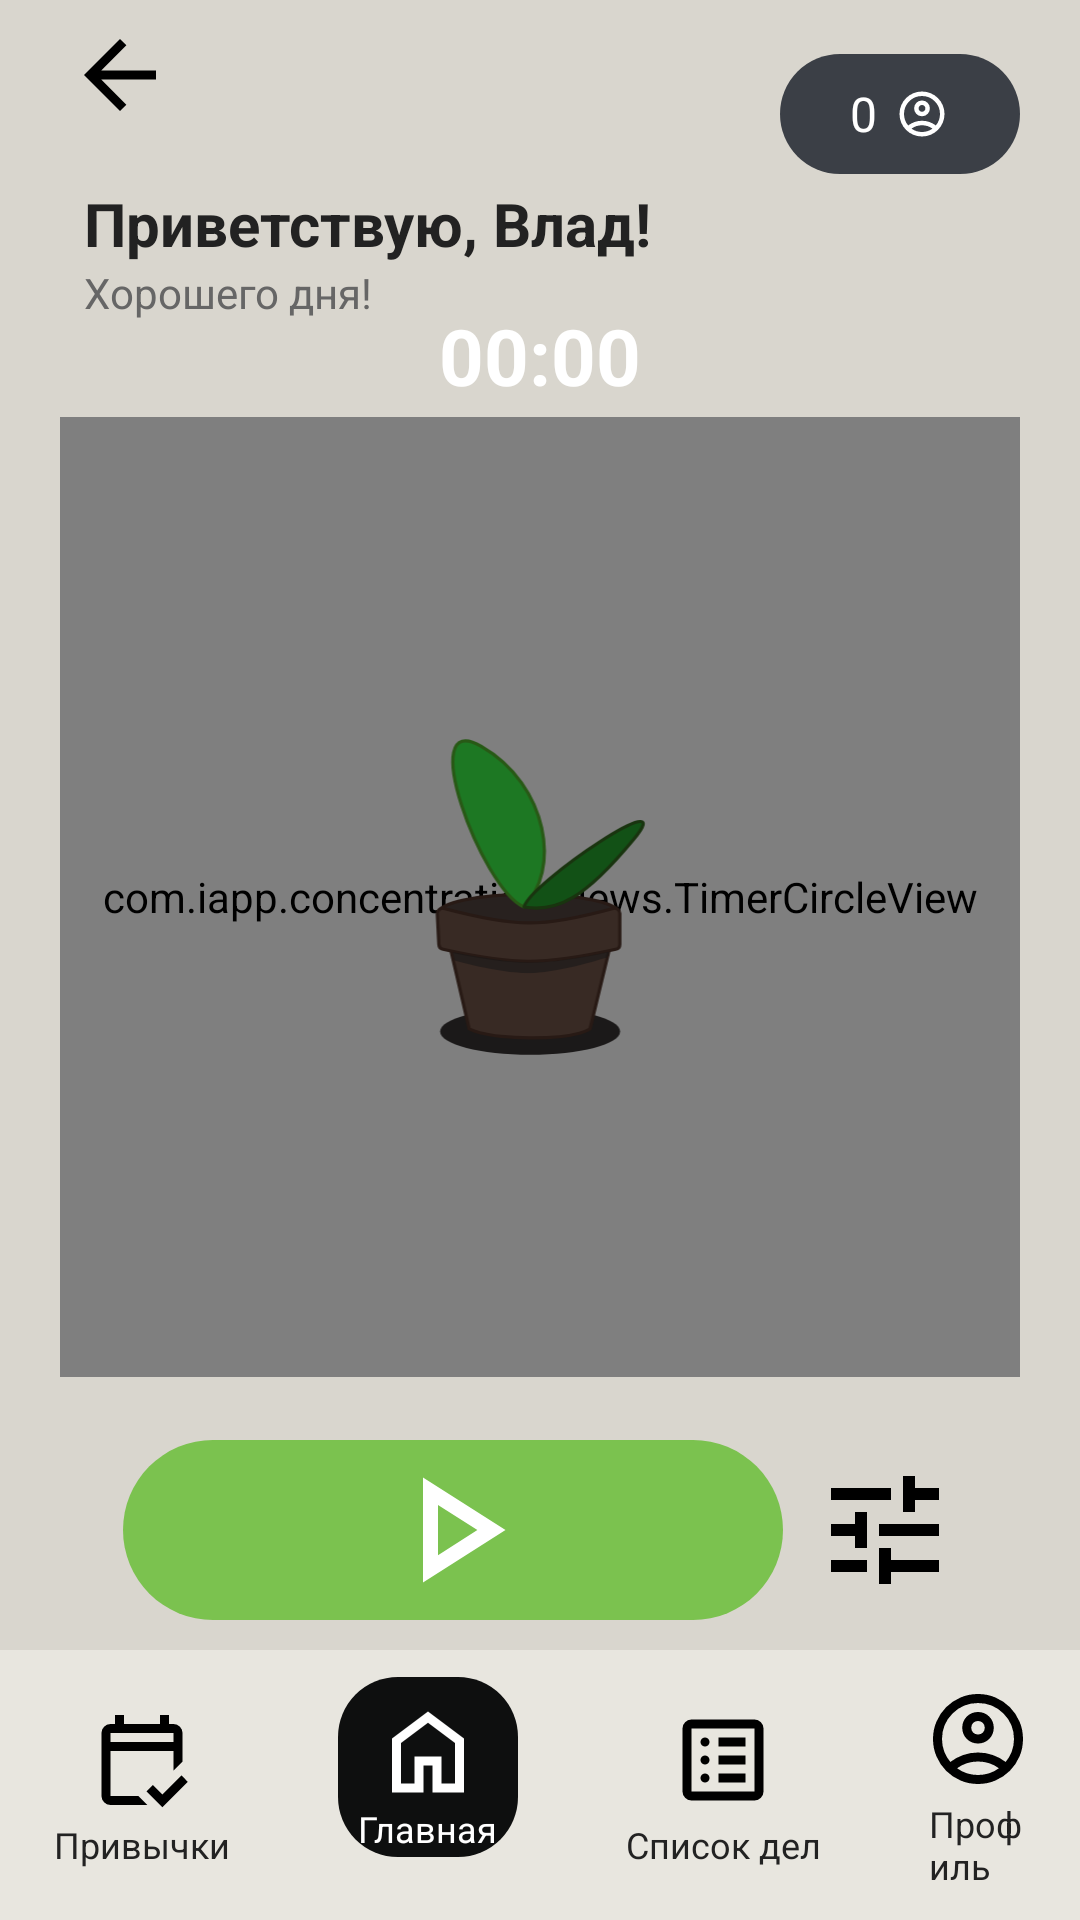

Locate icon controls on the screen. Image size 1080 × 1920, boxes as (x1, y1, x2, y2).
arrow back: (84, 39, 156, 111)
calendar: (101, 1715, 188, 1807)
tune: (831, 1476, 939, 1584)
